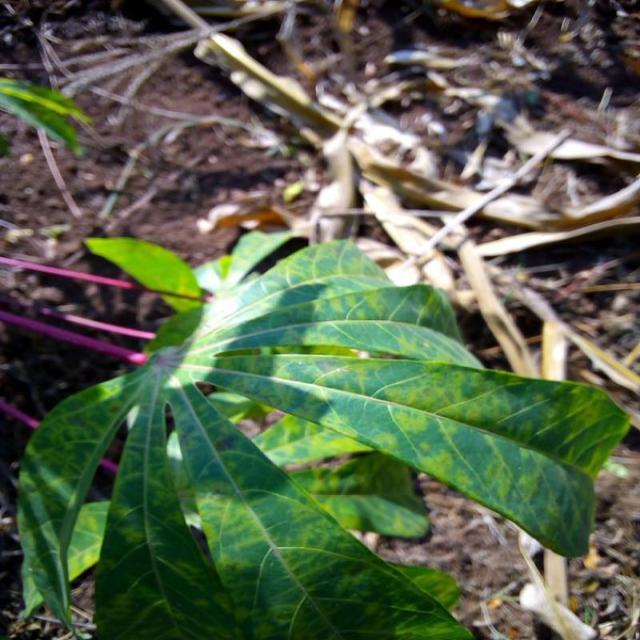cassava leaf: (15, 227, 630, 638)
